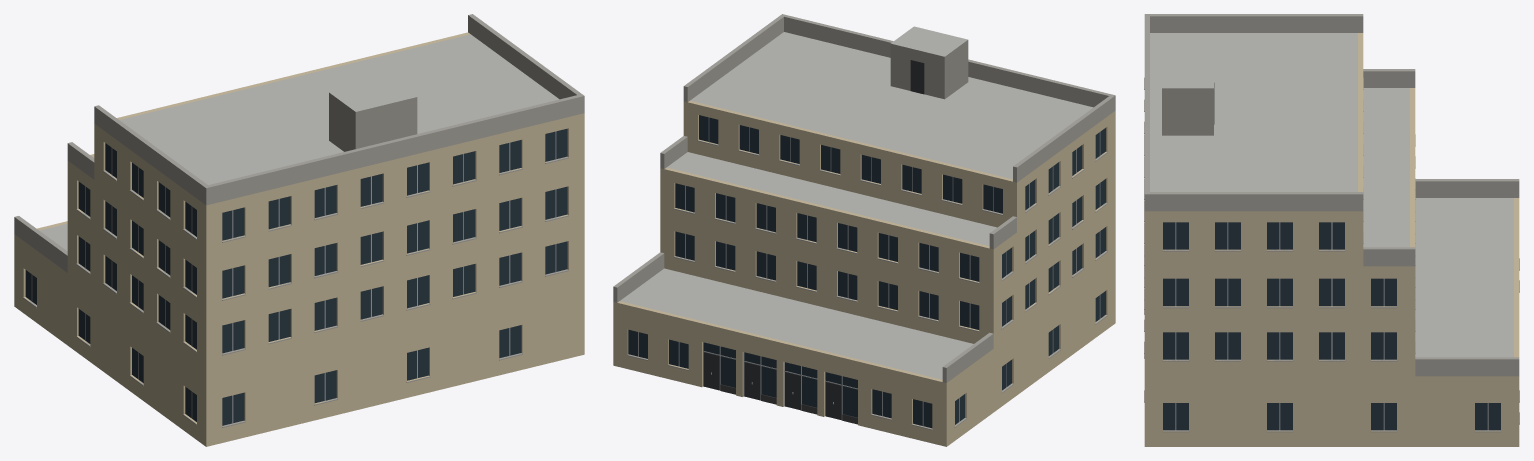
The model's file is bld_hospital.glb.
The picture shows the model from 3 angles, left to right: view 1: azimuth 30°, elevation 25°; view 2: azimuth 150°, elevation 25°; view 3: azimuth 270°, elevation 25°; orthographic projection. The views are drawn at different scales.
Visible parts, largest first — view 1: bld_hospital-col; view 2: bld_hospital-col; view 3: bld_hospital-col.
Part boxes in pixels (x1=…): bld_hospital-col: x1=14, y1=14, x2=584, y2=446; bld_hospital-col: x1=613, y1=14, x2=1115, y2=446; bld_hospital-col: x1=1144, y1=14, x2=1519, y2=446.
Size of the model in its own units: 24.66 by 18 by 21.66.
